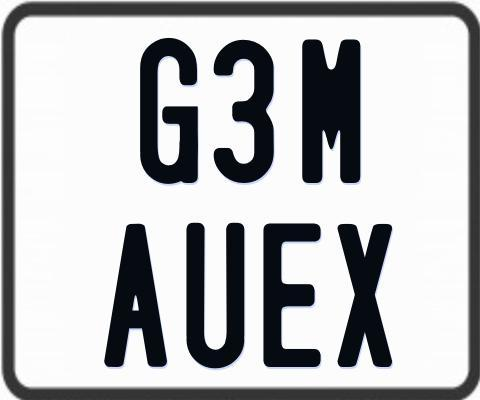3: (214, 39, 276, 185)
A: (102, 222, 168, 370)
E: (260, 223, 322, 370)
G: (137, 38, 196, 190)
M: (299, 38, 362, 184)
U: (184, 223, 242, 370)
X: (336, 223, 393, 371)
